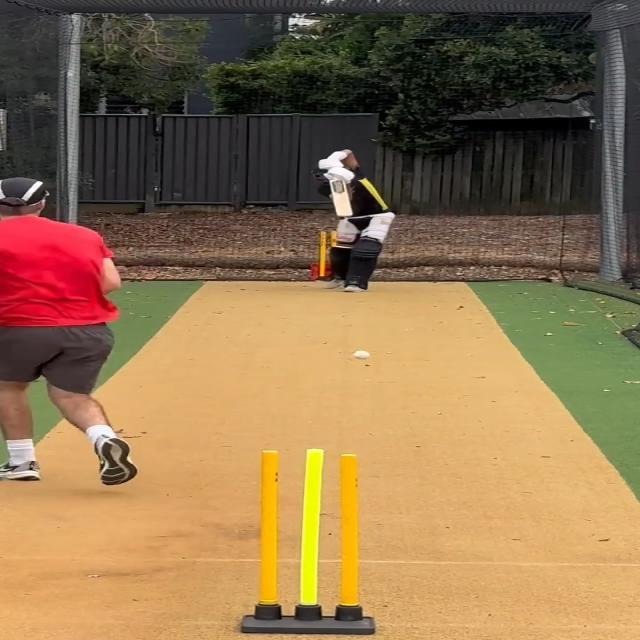ball: (352, 349, 372, 361)
stump: (241, 447, 379, 637)
